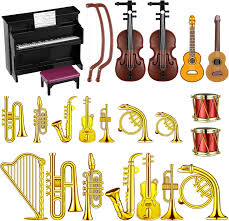Piano: (1, 1, 95, 94)
Saxophone: (105, 149, 141, 221)
Violin: (102, 1, 177, 90), (135, 150, 161, 221)
